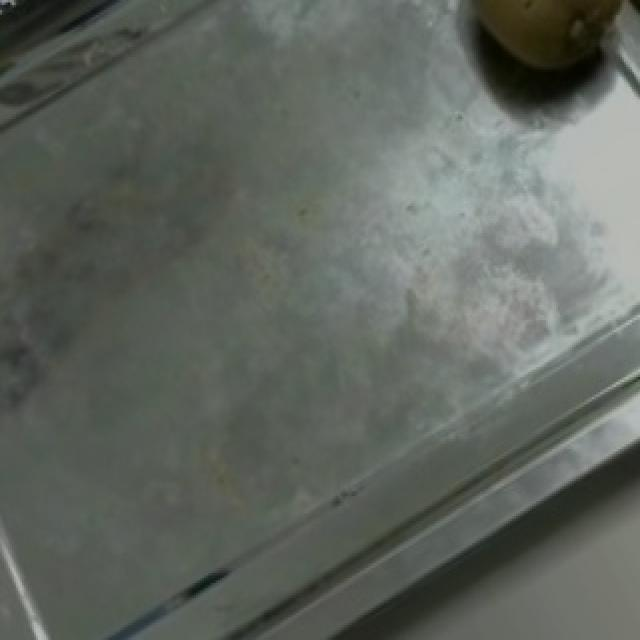Fruit: (434, 0, 640, 124)
